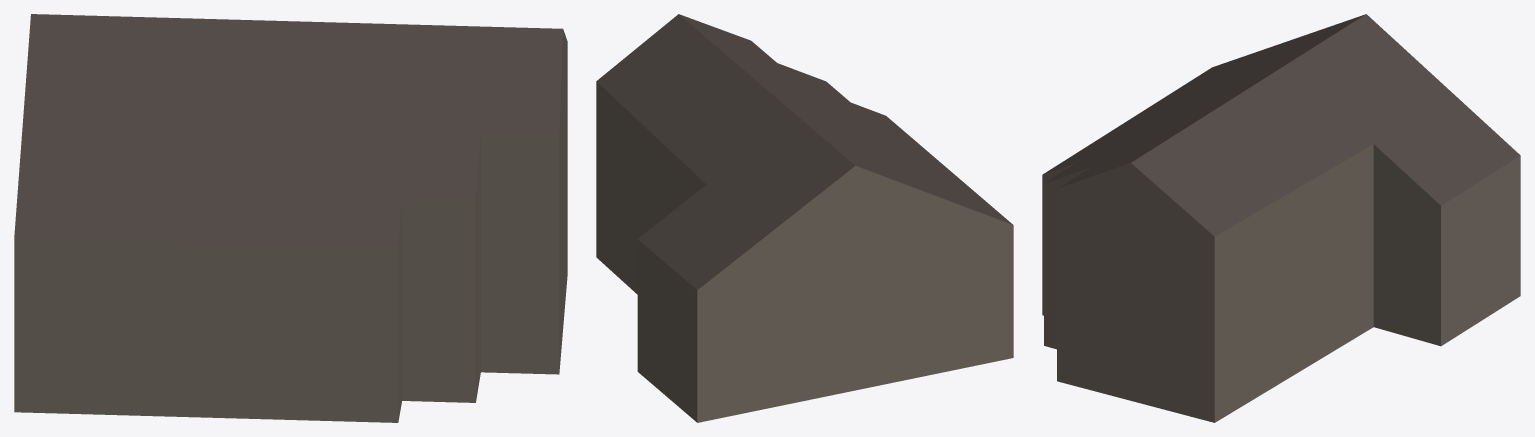
The picture shows the model from 3 angles, left to right: view 1: azimuth 30°, elevation 25°; view 2: azimuth 150°, elevation 25°; view 3: azimuth 270°, elevation 25°; orthographic projection. The views are drawn at different scales.
Parts seen in each view (by area): view 1: HP-w1331504962; view 2: HP-w1331504962; view 3: HP-w1331504962.
Boxes of the visible parts, <box> form: HP-w1331504962: <box>14,14,567,422</box>; HP-w1331504962: <box>596,14,1013,422</box>; HP-w1331504962: <box>1042,14,1520,422</box>.
Bounding box in the file's own units: 19.7 × 10.16 × 18.52.
